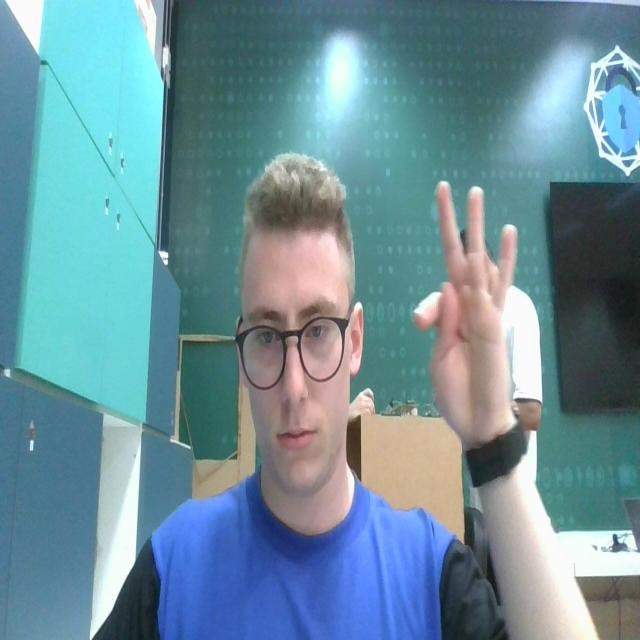T: (414, 174, 521, 443)
